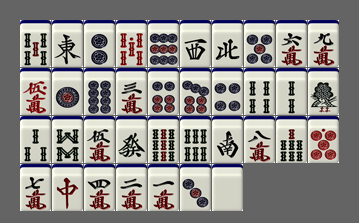0m: (20, 68, 51, 115)
0p: (308, 116, 339, 163)
0s: (116, 20, 147, 67)
1m: (148, 164, 179, 211)
1p: (52, 68, 83, 115)
1s: (308, 68, 339, 115)
1z: (52, 20, 83, 67)
2m: (116, 164, 147, 211)
2p: (84, 20, 115, 67)
2s: (276, 68, 307, 115)
2z: (212, 116, 243, 163)
3m: (116, 68, 147, 115)
3p: (180, 164, 211, 211)
3s: (20, 116, 51, 163)
3z: (180, 20, 211, 67)
4m: (84, 164, 115, 211)
4p: (212, 68, 243, 115)
4s: (244, 68, 275, 115)
4z: (212, 20, 243, 67)
5m: (84, 116, 115, 163)
5p: (244, 20, 275, 67)
5s: (20, 20, 51, 67)
5z: (212, 164, 243, 211)
6m: (276, 20, 307, 67)
6p: (148, 68, 179, 115)
6s: (180, 116, 211, 163)
6z: (116, 116, 147, 163)
7m: (20, 164, 51, 211)
7p: (180, 68, 211, 115)
7s: (276, 116, 307, 163)
7z: (52, 164, 83, 211)
8m: (244, 116, 275, 163)
8p: (84, 68, 115, 115)
8s: (52, 116, 83, 163)
9m: (308, 20, 339, 67)
9p: (148, 20, 179, 67)
9s: (148, 116, 179, 163)
